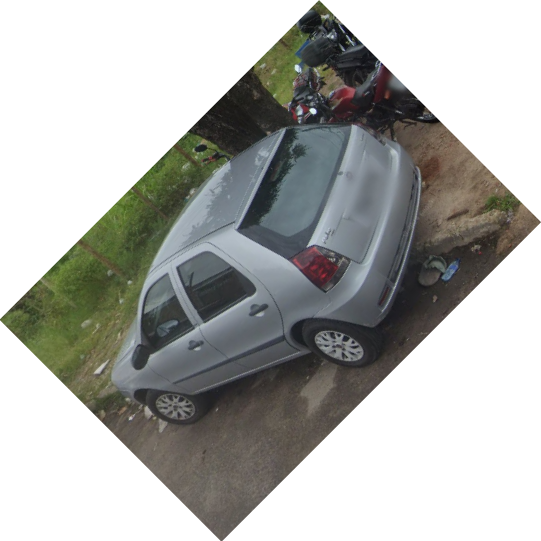car: (110, 124, 418, 426)
